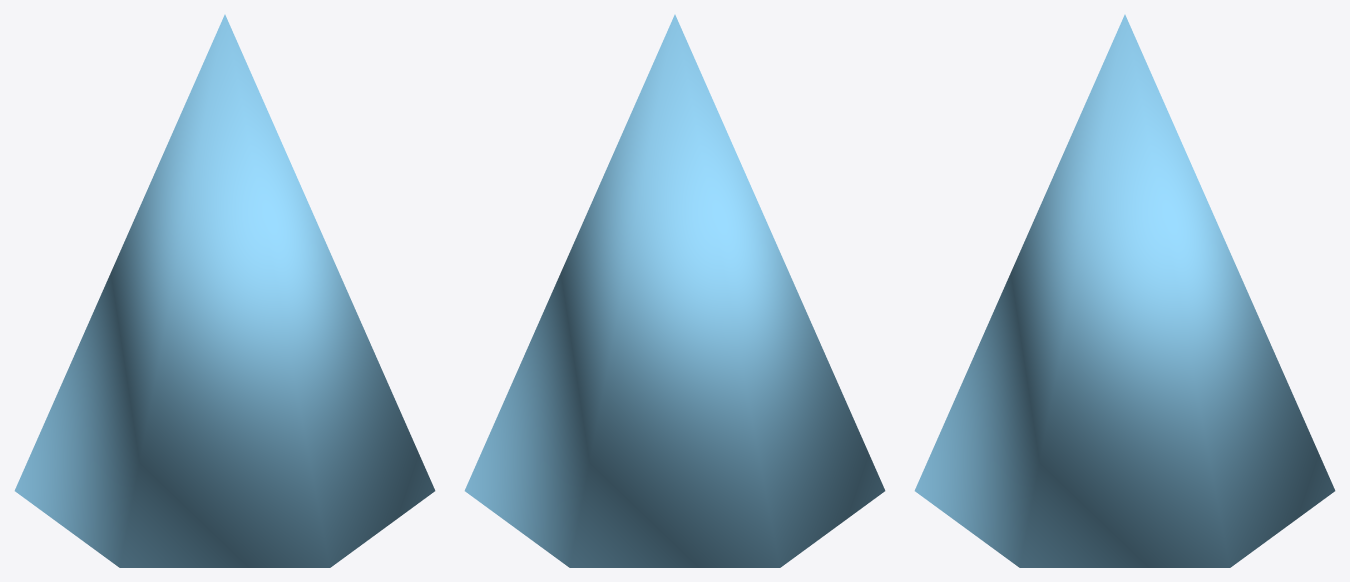
The model's file is crystal.glb.
3 renders of one model, left to right at view 1: azimuth 30°, elevation 25°; view 2: azimuth 150°, elevation 25°; view 3: azimuth 270°, elevation 25°, orthographic.
Parts seen in each view (by area): view 1: Crystal; view 2: Crystal; view 3: Crystal.
Part boxes in pixels (x1,y1,x2,y2): Crystal: (14, 14, 435, 567); Crystal: (464, 14, 885, 567); Crystal: (914, 14, 1335, 567).
Bounding box in the file's own units: 0.6928 × 1 × 0.8.
